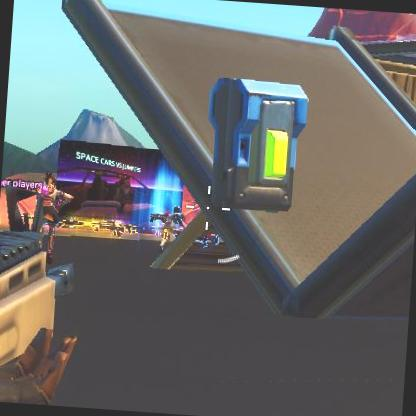person: (30, 169, 74, 261), (160, 204, 184, 242)
